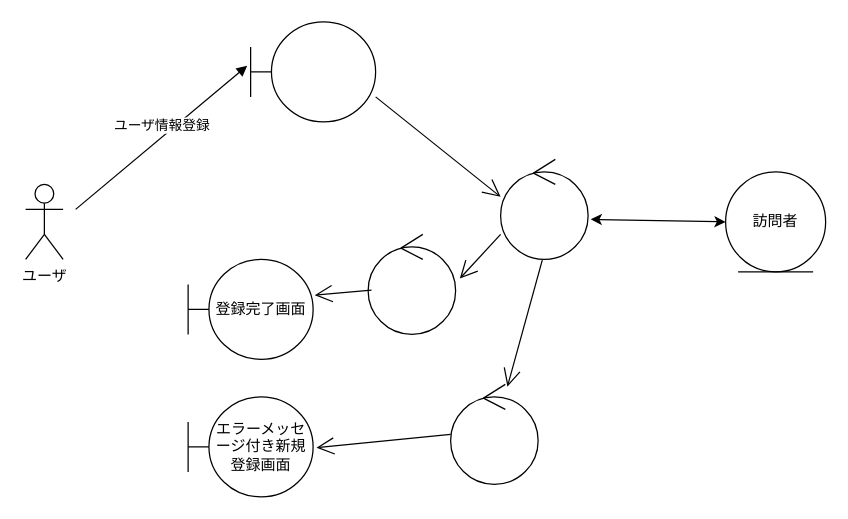
Image size: 848x519. Some labels were removed from this diagram. The box of each missing label's shape, as (x1, y1, x2, y2) in pixels:
新規登録: (499, 158, 588, 259)
新規登録画面: (249, 21, 376, 122)
